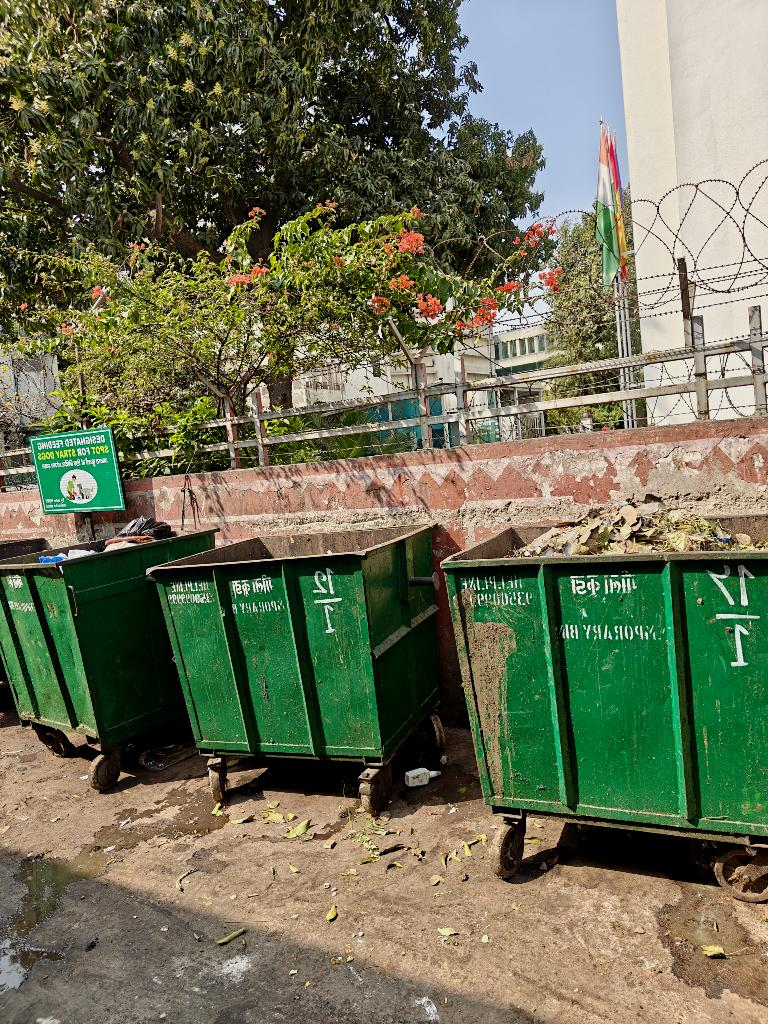dustbin: (448, 477, 768, 891), (144, 508, 448, 824), (0, 518, 225, 776)
